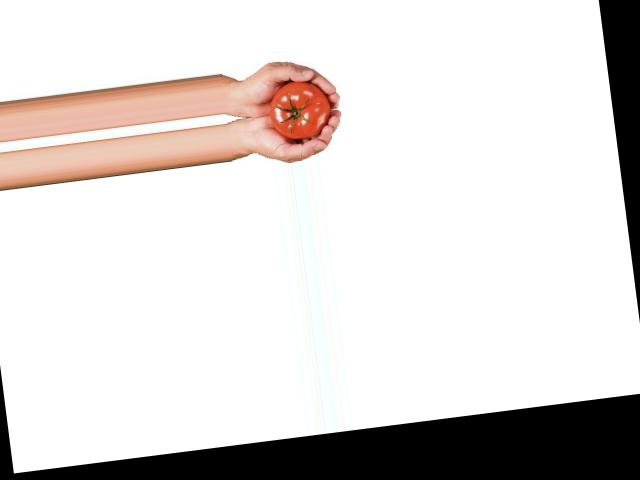tomato: (267, 77, 332, 142)
